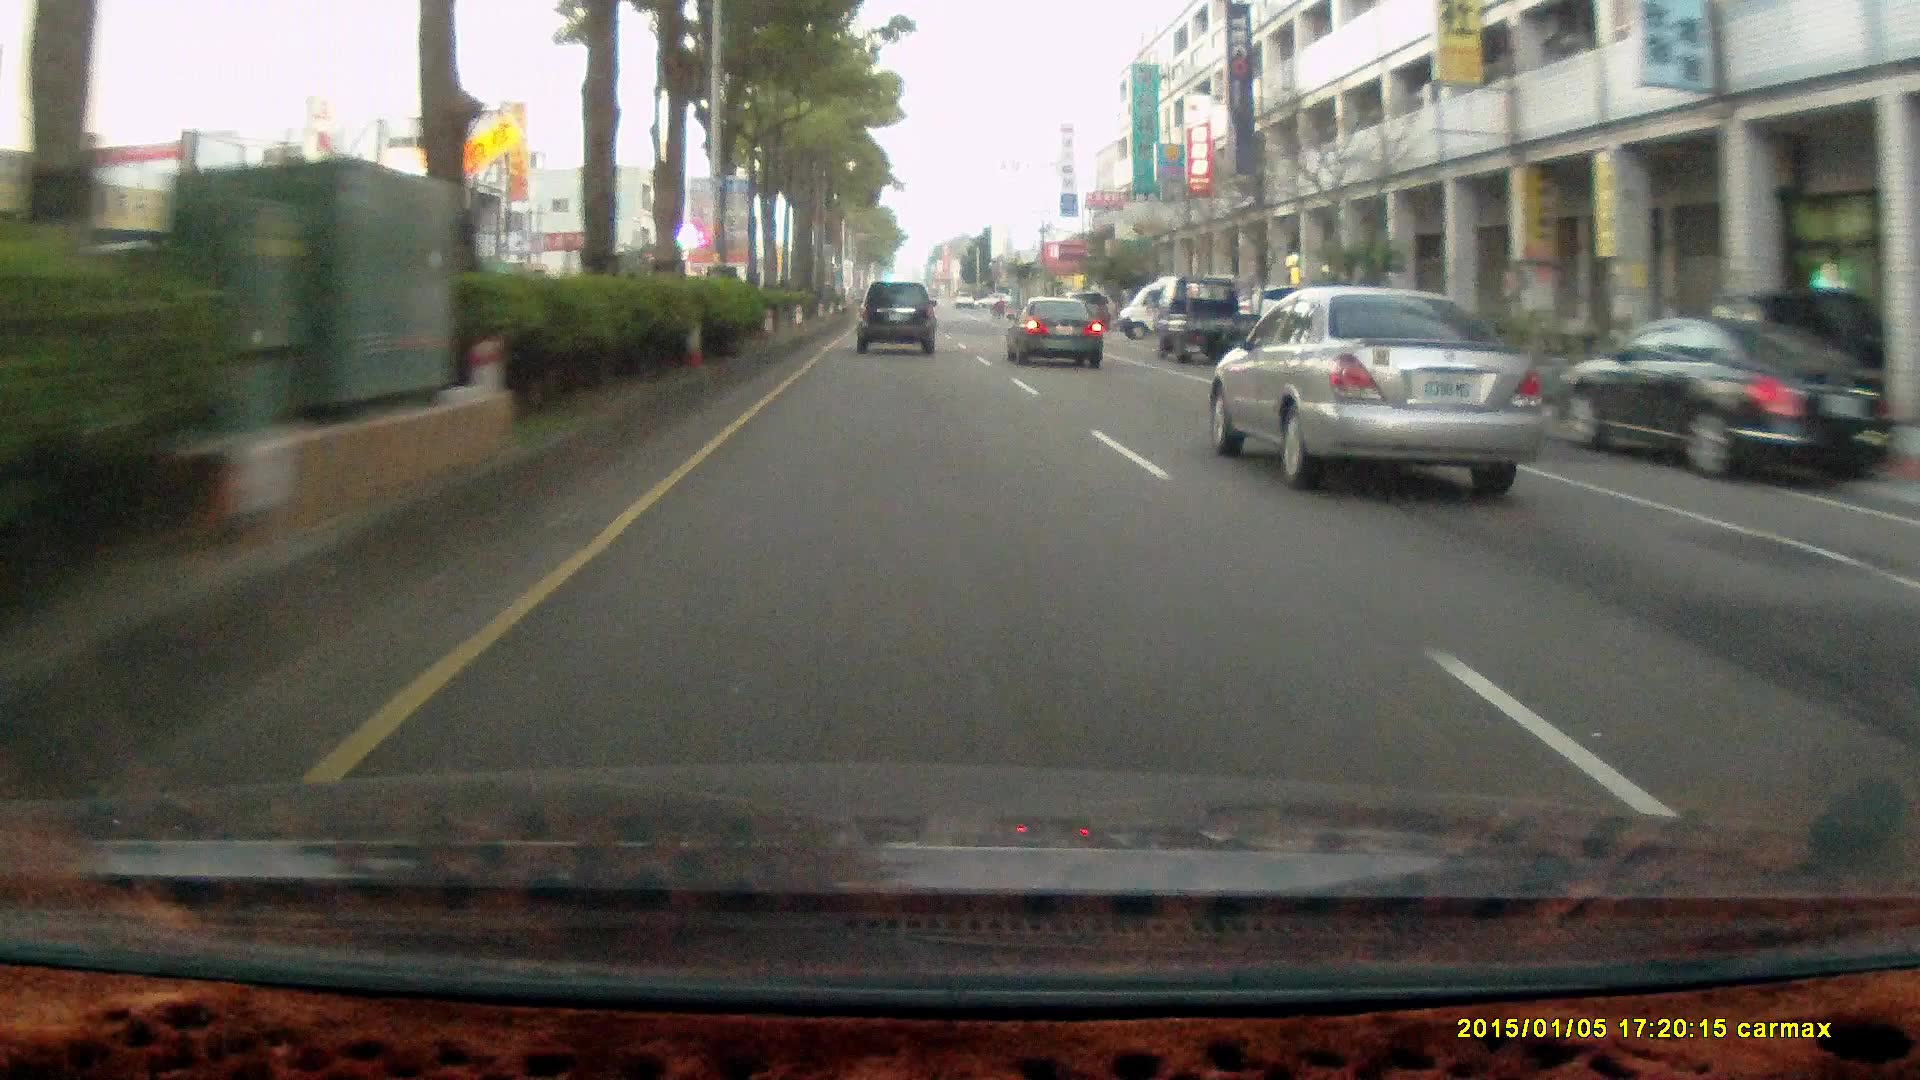vehicle: (1203, 287, 1538, 487), (1560, 306, 1896, 487), (1552, 313, 1896, 483), (1266, 302, 1414, 392), (1162, 278, 1269, 377), (1154, 276, 1257, 364), (1116, 273, 1237, 339), (1004, 298, 1106, 375), (1004, 294, 1100, 367), (856, 282, 939, 357), (855, 282, 938, 353)
